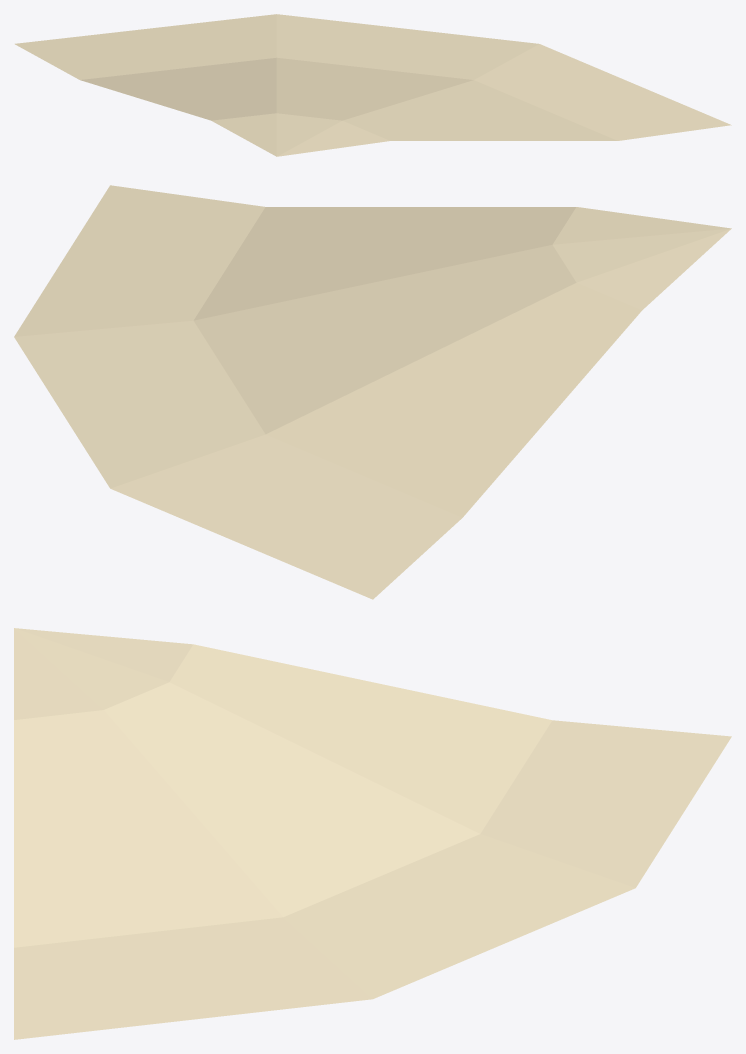
File: Beach_Terrain_Sand_Corner_Outer_2x2.glb
3 views of the same model, one above another, from view 1: azimuth 30°, elevation 25°; view 2: azimuth 150°, elevation 25°; view 3: azimuth 270°, elevation 25° (orthographic). The views are drawn at different scales.
Parts seen in each view (by area): view 1: Beach_Terrain_Sand_Corner_Outer_2x2; view 2: Beach_Terrain_Sand_Corner_Outer_2x2; view 3: Beach_Terrain_Sand_Corner_Outer_2x2.
Boxes of the visible parts, x1,y1,x2,y2 form: Beach_Terrain_Sand_Corner_Outer_2x2: (15, 14, 731, 156); Beach_Terrain_Sand_Corner_Outer_2x2: (14, 185, 731, 599); Beach_Terrain_Sand_Corner_Outer_2x2: (14, 628, 731, 1039).
Bounding box in the file's own units: 3 × 0.5 × 3.
